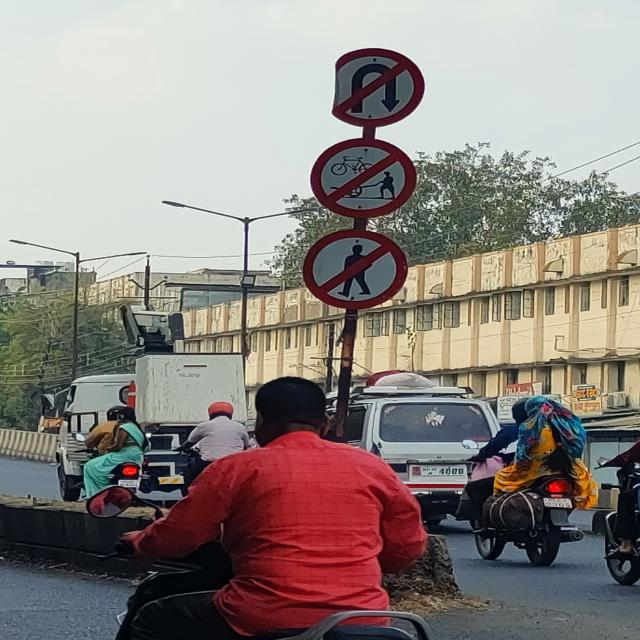cycle_prohibited: (308, 138, 420, 218)
